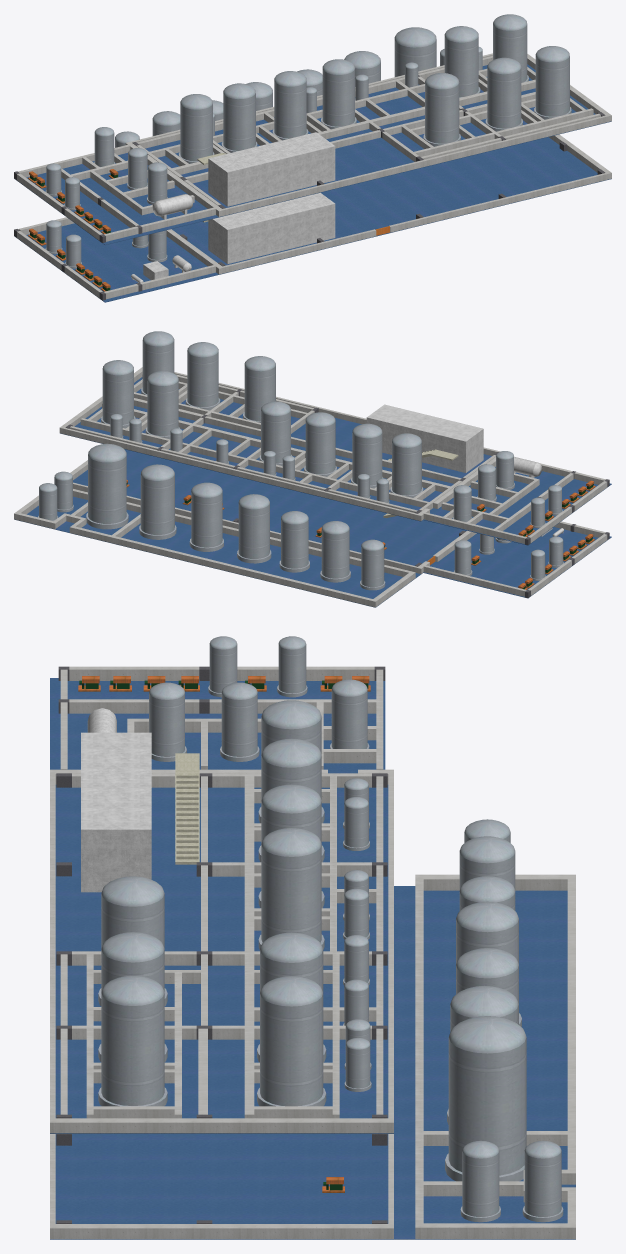
Rendered from tileset.gltf.
3 views of the same model, one above another, from view 1: azimuth 30°, elevation 25°; view 2: azimuth 150°, elevation 25°; view 3: azimuth 270°, elevation 25° (orthographic). The views are drawn at different scales.
Visible parts, largest first — view 1: 404工段常压小工段-2F-2F, 404工段常压小工段-2F-1F; view 2: 404工段常压小工段-2F-2F, 404工段常压小工段-2F-1F; view 3: 404工段常压小工段-2F-2F, 404工段常压小工段-2F-1F.
Boxes of the visible parts, x1=… form: 404工段常压小工段-2F-2F: x1=14, y1=14, x2=611, y2=245; 404工段常压小工段-2F-1F: x1=14, y1=27, x2=611, y2=302; 404工段常压小工段-2F-2F: x1=59, y1=331, x2=611, y2=545; 404工段常压小工段-2F-1F: x1=14, y1=443, x2=611, y2=607; 404工段常压小工段-2F-2F: x1=50, y1=636, x2=393, y2=1133; 404工段常压小工段-2F-1F: x1=50, y1=819, x2=575, y2=1239.
Bounding box in the file's own units: 30.88 × 7.16 × 15.07.
Materials: 10 (10 with a texture image).
